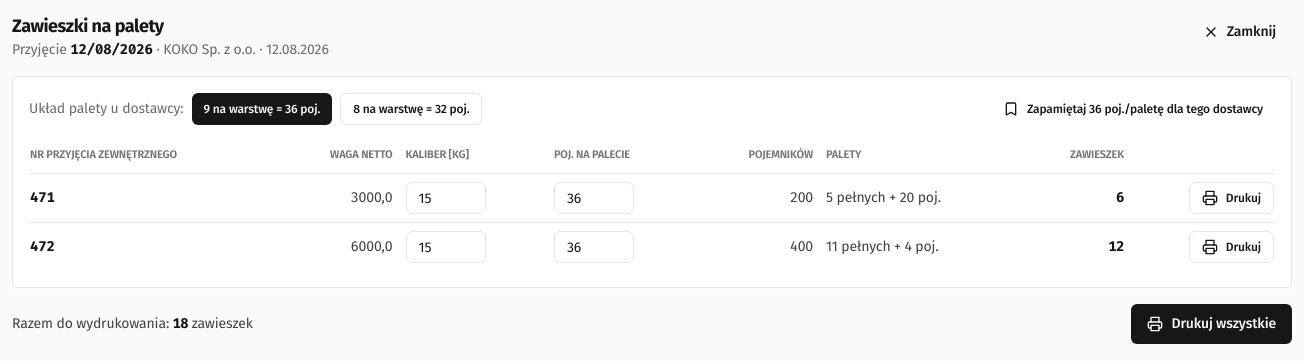
Scenario: ReceptionTags — ile zawieszek na dostawę › zmiana kalibru przelicza pojemniki, a nie tylko wagę
Replace the text in the number field named "Kaliber 471" with "20": (446,198) [406,182,486,214]
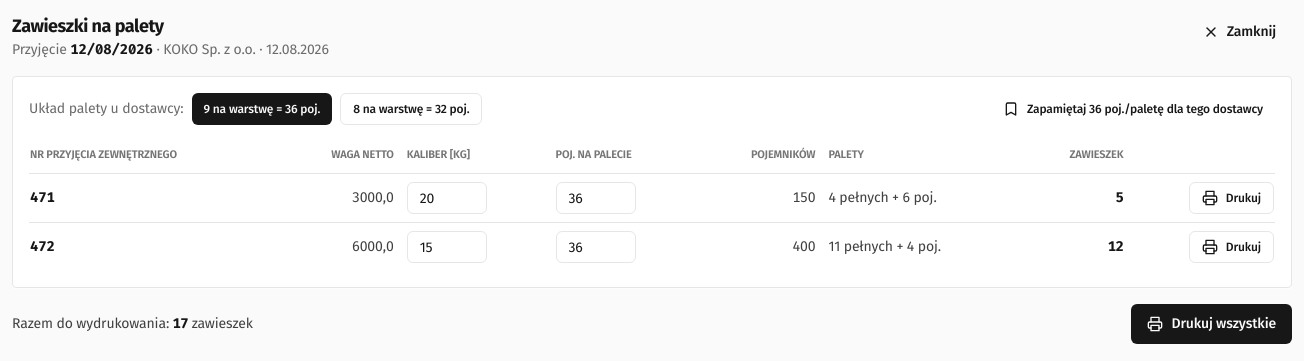
Expected: the cell named "Pojemników 471" reads "150", [792,189,816,206]
Expected: the cell named "Zawieszek 471" reads "5", [1116,189,1123,206]
